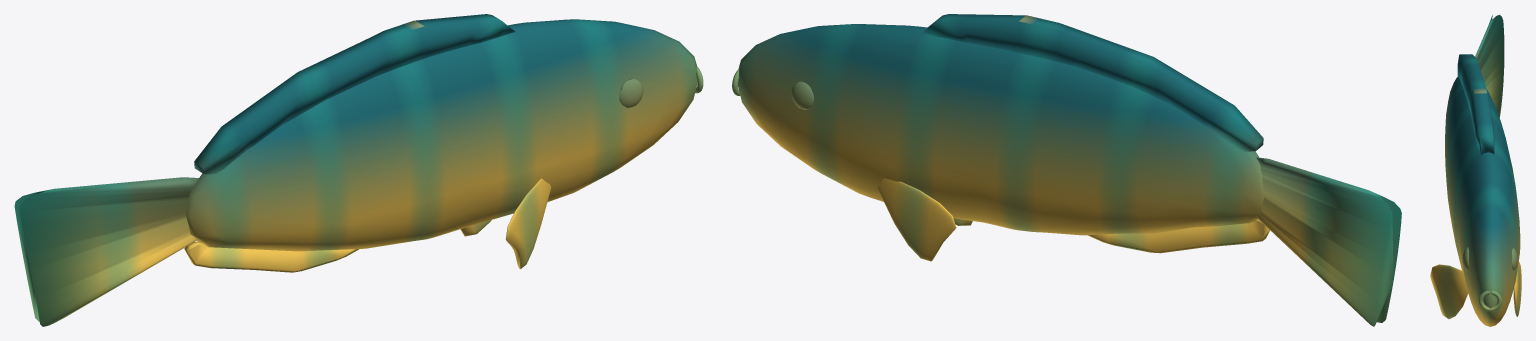
The model's file is PezLoro.fbx.
3 views of the same model, side by side, from view 1: azimuth 30°, elevation 25°; view 2: azimuth 150°, elevation 25°; view 3: azimuth 270°, elevation 25° (orthographic). The views are drawn at different scales.
Visible parts, largest first — view 1: PezLoro; view 2: PezLoro; view 3: PezLoro.
Boxes of the visible parts, x1,y1,x2,y2 form: PezLoro: (14, 14, 703, 326); PezLoro: (732, 14, 1401, 326); PezLoro: (1430, 14, 1521, 326).
Size of the model in its own units: 0.7 by 0.2437 by 0.1043.
1 material, 1 textured.
